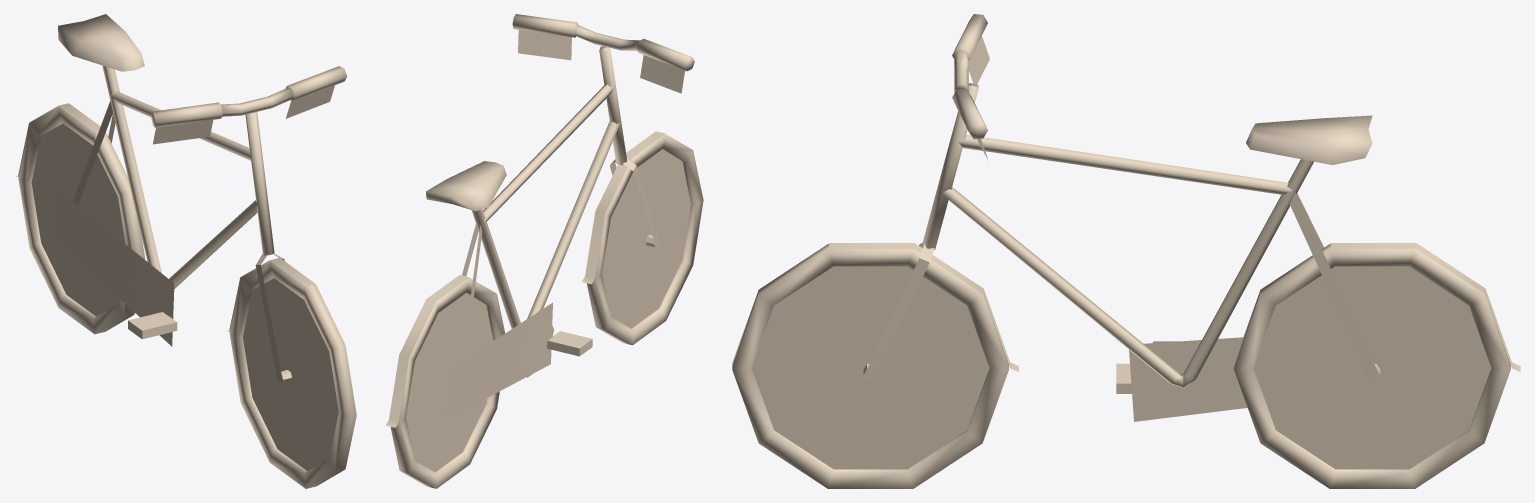
Rendered from Bike_1.fbx.
3 renders of one model, left to right at view 1: azimuth 30°, elevation 25°; view 2: azimuth 150°, elevation 25°; view 3: azimuth 270°, elevation 25°, orthographic. The views are drawn at different scales.
Visible parts, largest first — view 1: Cylinder; view 2: Cylinder; view 3: Cylinder.
Boxes of the visible parts, x1,y1,x2,y2 form: Cylinder: (16,14,356,488); Cylinder: (385,14,703,488); Cylinder: (732,14,1520,488).
Size of the model in its own units: 1.89 by 3.32 by 5.7.
